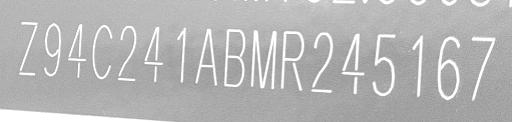letter: (462, 32, 500, 100), (364, 31, 400, 97), (429, 32, 461, 100), (247, 27, 277, 90), (401, 32, 429, 98), (277, 29, 307, 90), (308, 30, 336, 94), (336, 31, 364, 94), (164, 24, 194, 82), (111, 23, 141, 80), (218, 26, 246, 86), (194, 24, 218, 86), (87, 22, 111, 79), (38, 23, 62, 78), (63, 23, 87, 78), (16, 19, 38, 78), (142, 24, 164, 83)
